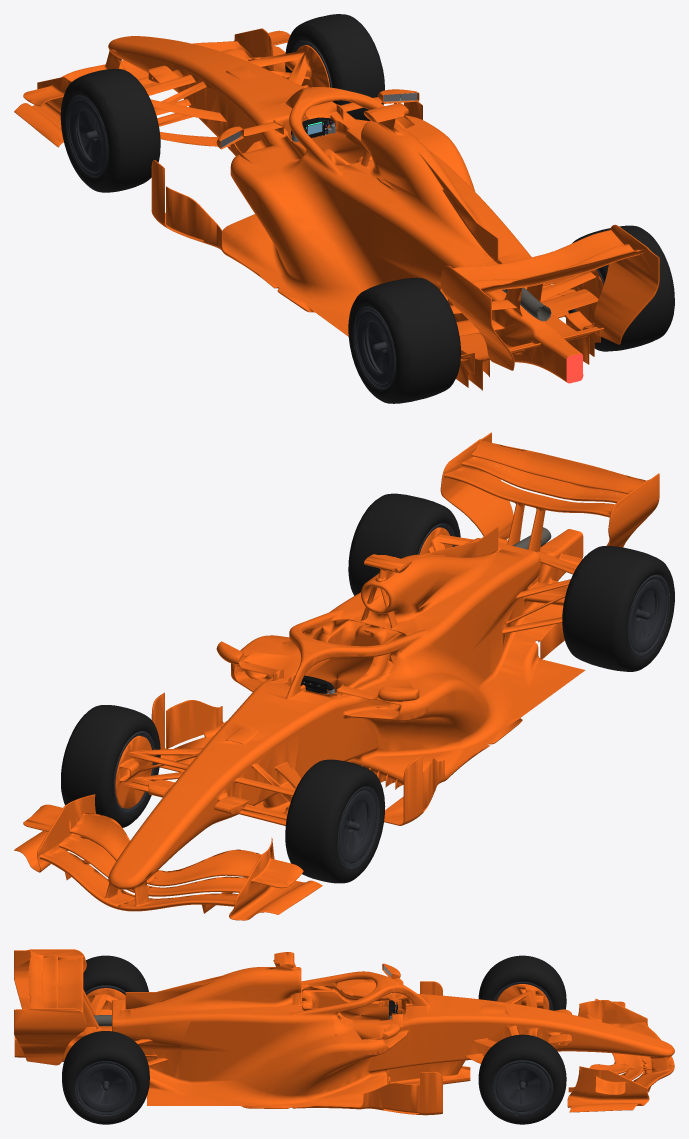
File: car-f1-lite.glb
3 renders of one model, top to bottom at view 1: azimuth 30°, elevation 25°; view 2: azimuth 150°, elevation 25°; view 3: azimuth 270°, elevation 25°, orthographic. The views are drawn at different scales.
Visible parts, largest first — view 1: body, tyre-RL, tyre-FL, tyre-FR, tyre-RR, rim-RL, rim-FL, rear-flap, exhaust; view 2: body, tyre-RL, tyre-FL, tyre-FR, tyre-RR, rear-flap, rim-RL, rim-FL; view 3: body, tyre-RR, tyre-FR, rim-RR, rim-FR, tyre-FL, tyre-RL, rear-flap, rim-FL.
Part boxes in pixels (x1,y1,x2,y2): body: (14,28,659,390); tyre-RL: (348,277,460,403); tyre-FL: (60,68,160,192); tyre-FR: (285,14,384,120); tyre-RR: (568,225,674,351); rim-RL: (353,306,395,389); rim-FL: (66,95,108,178); rear-flap: (484,251,638,292); exhaust: (502,287,551,321); body: (14,432,659,920); tyre-RL: (562,546,674,671); tyre-FL: (285,759,385,883); tyre-FR: (61,705,160,827); tyre-RR: (348,493,460,595); rear-flap: (480,443,634,495); rim-RL: (627,574,669,657); rim-FL: (337,785,379,868); body: (14,949,674,1115); tyre-RR: (62,1031,149,1124); tyre-FR: (478,1034,566,1124); rim-RR: (75,1060,136,1116); rim-FR: (491,1060,553,1115); tyre-FL: (478,955,566,1010); tyre-RL: (83,955,148,991); rear-flap: (28,955,44,1008); rim-FL: (493,981,553,1010).
Size of the model in its own units: 1.88 by 1.1 by 5.39.
10 materials, 2 textured.
